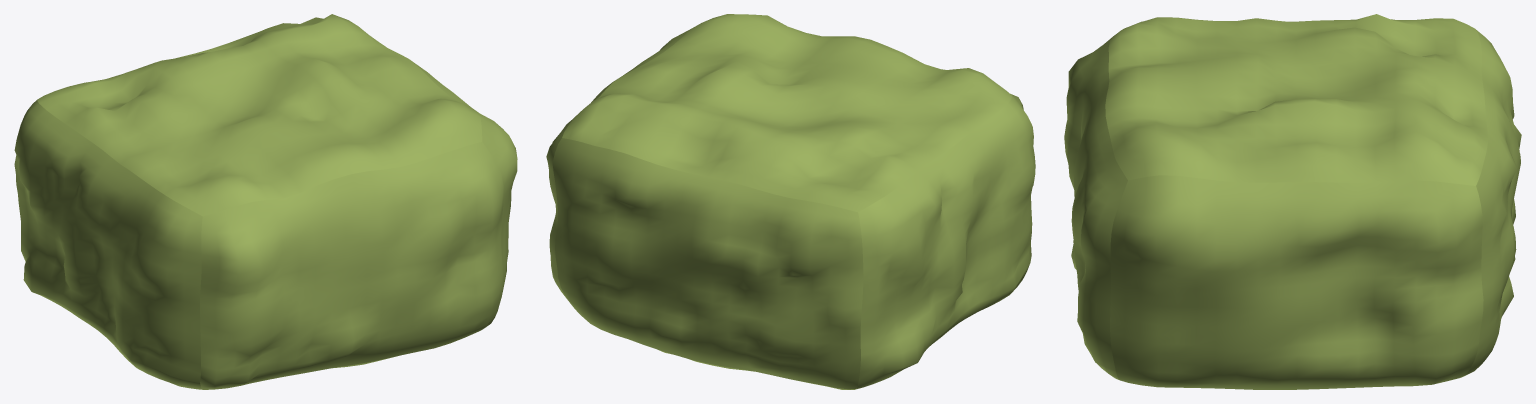
The model's file is Bush.fbx.
3 views of the same model, side by side, from view 1: azimuth 30°, elevation 25°; view 2: azimuth 150°, elevation 25°; view 3: azimuth 270°, elevation 25° (orthographic). The views are drawn at different scales.
Visible parts, largest first — view 1: pCube1; view 2: pCube1; view 3: pCube1.
Part boxes in pixels (x1,y1,x2,y2): pCube1: (14, 14, 517, 389); pCube1: (546, 14, 1035, 389); pCube1: (1064, 14, 1521, 389).
Bounding box in the file's own units: 13.59 × 7.98 × 12.92.
